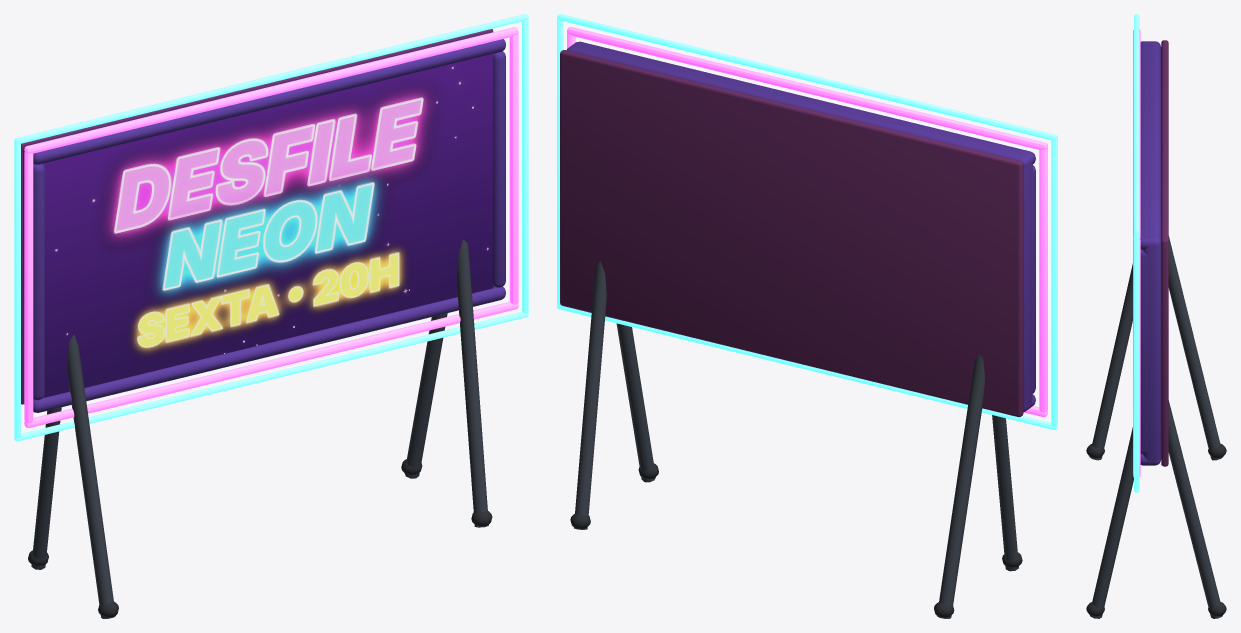
Rendered from cavalete_desfile_neon.glb.
The picture shows the model from 3 angles, left to right: view 1: azimuth 30°, elevation 25°; view 2: azimuth 150°, elevation 25°; view 3: azimuth 270°, elevation 25°; orthographic projection. The views are drawn at different scales.
Parts seen in each view (by area): view 1: cavalete_desfile_neon, neon_pisca; view 2: cavalete_desfile_neon, neon_pisca; view 3: cavalete_desfile_neon, neon_pisca.
Part boxes in pixels (x1,y1,x2,y2): cavalete_desfile_neon: (21,29,505,618); neon_pisca: (14,14,528,441); cavalete_desfile_neon: (560,41,1035,618); neon_pisca: (557,14,1057,429); cavalete_desfile_neon: (1086,40,1226,618); neon_pisca: (1133,14,1140,492).
Size of the model in its own units: 2.75 by 2.45 by 0.75.
Materials: 4 (2 with a texture image).
